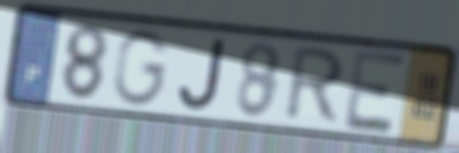8: (61, 23, 112, 102), (233, 40, 283, 120)
E: (342, 46, 409, 137)
G: (111, 27, 173, 109)
J: (175, 35, 229, 114)
R: (280, 45, 349, 126)
